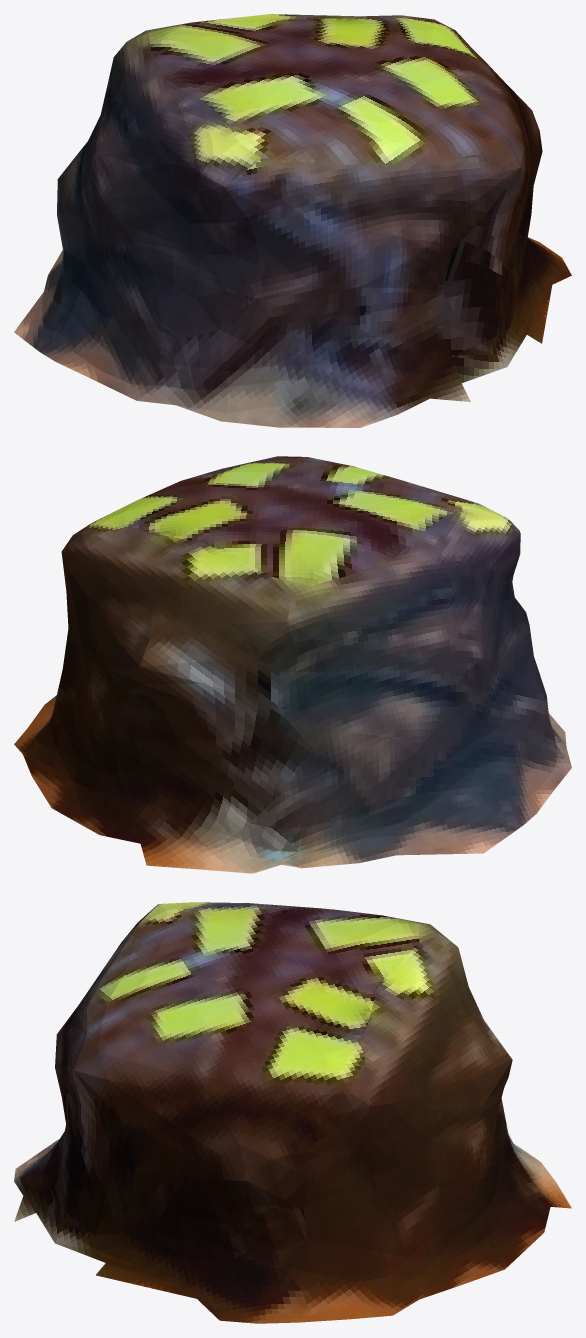
File: no-sugar-cookies.glb
3 renders of one model, top to bottom at view 1: azimuth 30°, elevation 25°; view 2: azimuth 150°, elevation 25°; view 3: azimuth 270°, elevation 25°, orthographic.
Visible parts, largest first — view 1: Mesh_0.006; view 2: Mesh_0.006; view 3: Mesh_0.006.
Part boxes in pixels (x1,y1,x2,y2): Mesh_0.006: (14, 14, 571, 427); Mesh_0.006: (14, 456, 571, 873); Mesh_0.006: (14, 902, 571, 1323).
Bounding box in the file's own units: 0.0731 × 0.036 × 0.0729.
1 material, 1 textured.
